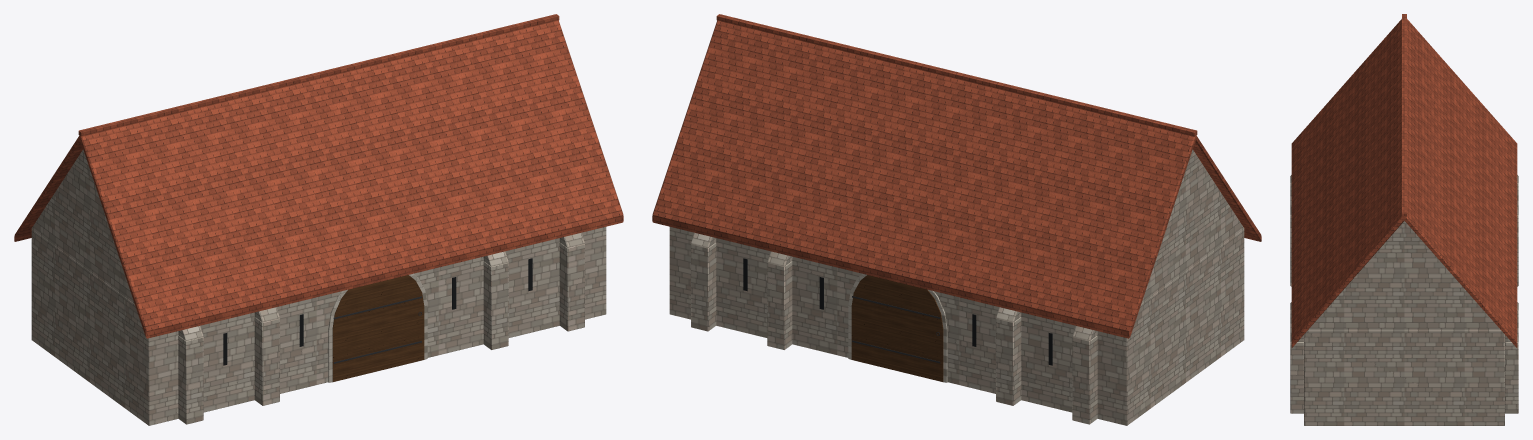
The model's file is tithe-barn.glb.
3 views of the same model, side by side, from view 1: azimuth 30°, elevation 25°; view 2: azimuth 150°, elevation 25°; view 3: azimuth 270°, elevation 25° (orthographic). The views are drawn at different scales.
Parts seen in each view (by area): view 1: Tithe_Barn; view 2: Tithe_Barn; view 3: Tithe_Barn.
Part boxes in pixels (x1,y1,x2,y2): Tithe_Barn: [14, 14, 623, 425]; Tithe_Barn: [652, 14, 1261, 425]; Tithe_Barn: [1290, 14, 1518, 425].
Size of the model in its own units: 18.8 by 9.55 by 9.1.
Materials: 6 (4 with a texture image).
